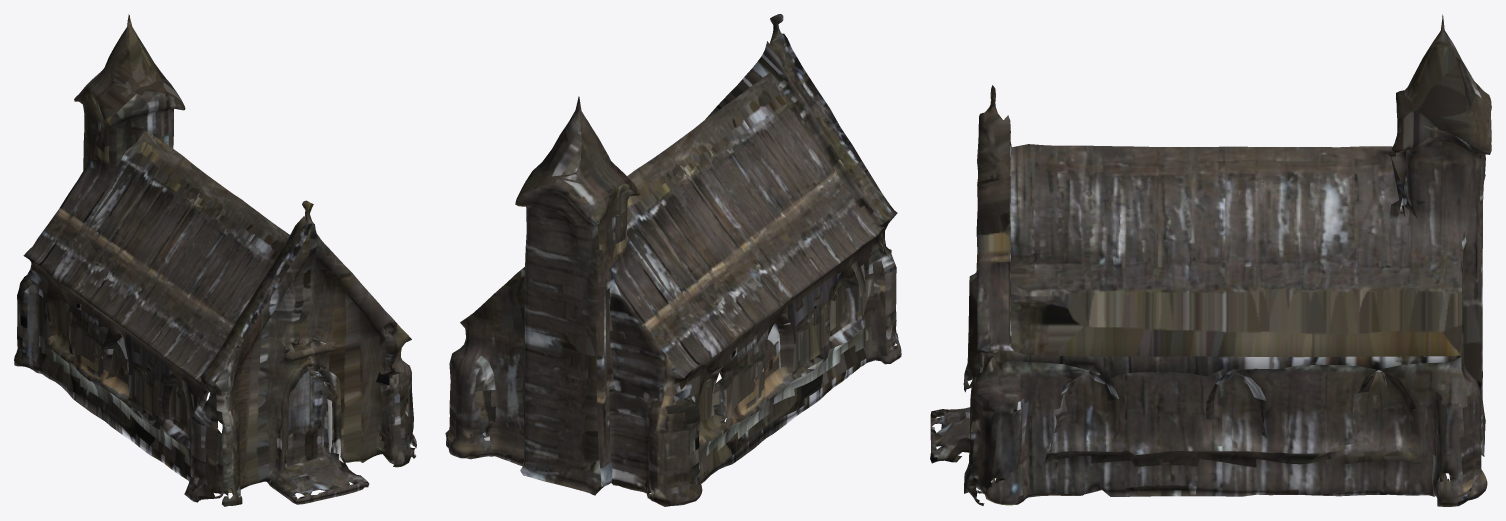
File: church1.glb
3 renders of one model, left to right at view 1: azimuth 30°, elevation 25°; view 2: azimuth 150°, elevation 25°; view 3: azimuth 270°, elevation 25°, orthographic. The views are drawn at different scales.
Size of the model in its own units: 1.17 by 1.68 by 2.
1 material, 1 textured.
